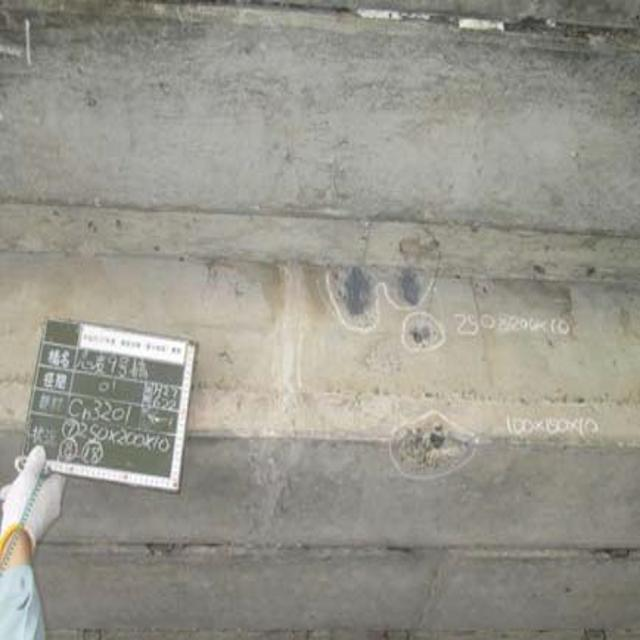spalling: (330, 236, 476, 357), (379, 402, 487, 478)
